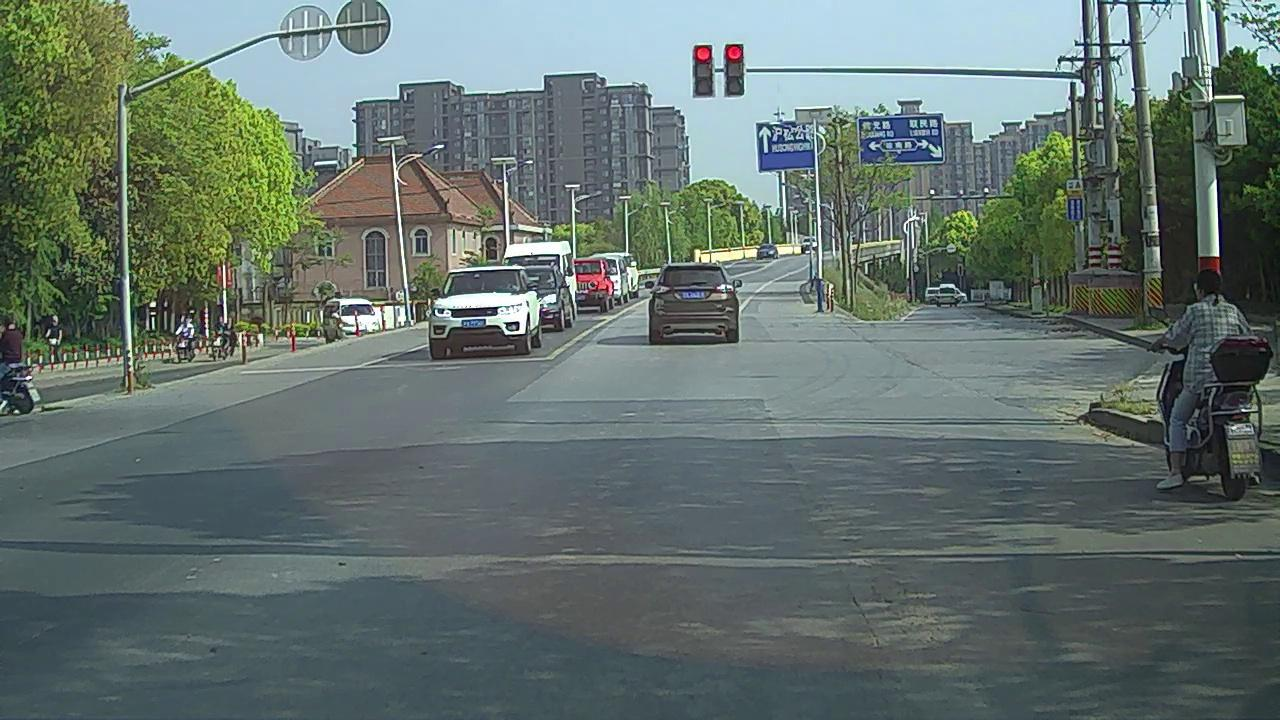traffic_light: (694, 46, 714, 98), (725, 45, 744, 96)
